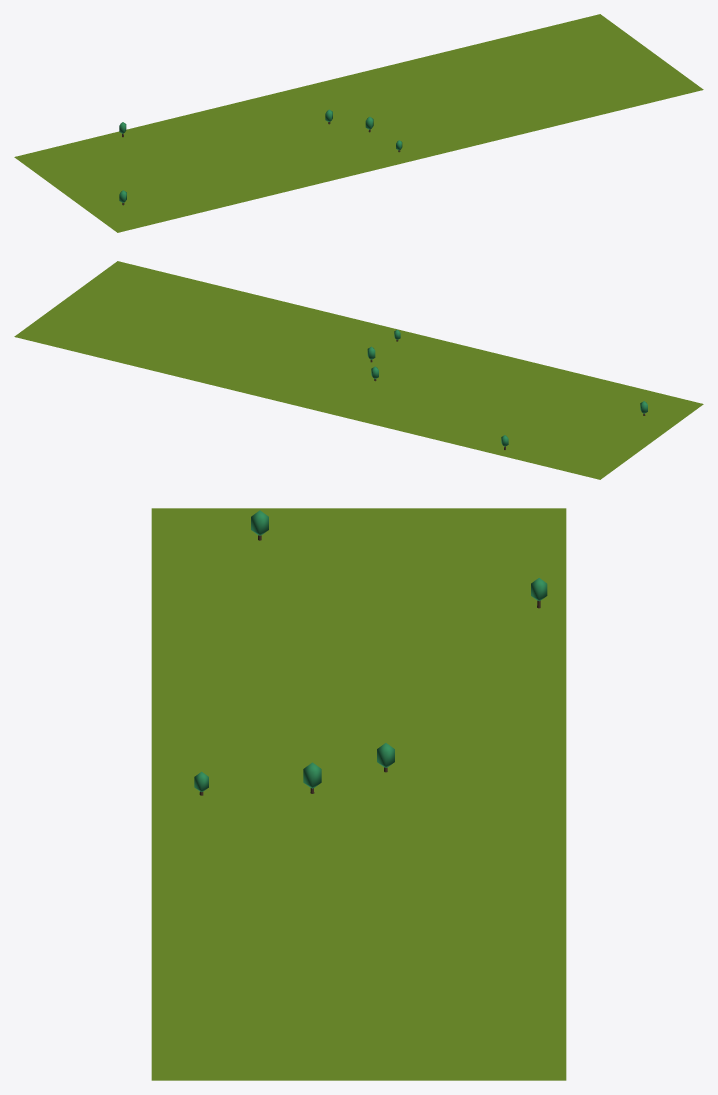
File: nature_right3.glb
3 renders of one model, top to bottom at view 1: azimuth 30°, elevation 25°; view 2: azimuth 150°, elevation 25°; view 3: azimuth 270°, elevation 25°, orthographic. The views are drawn at different scales.
Size of the model in its own units: 98 by 2.5 by 30.
